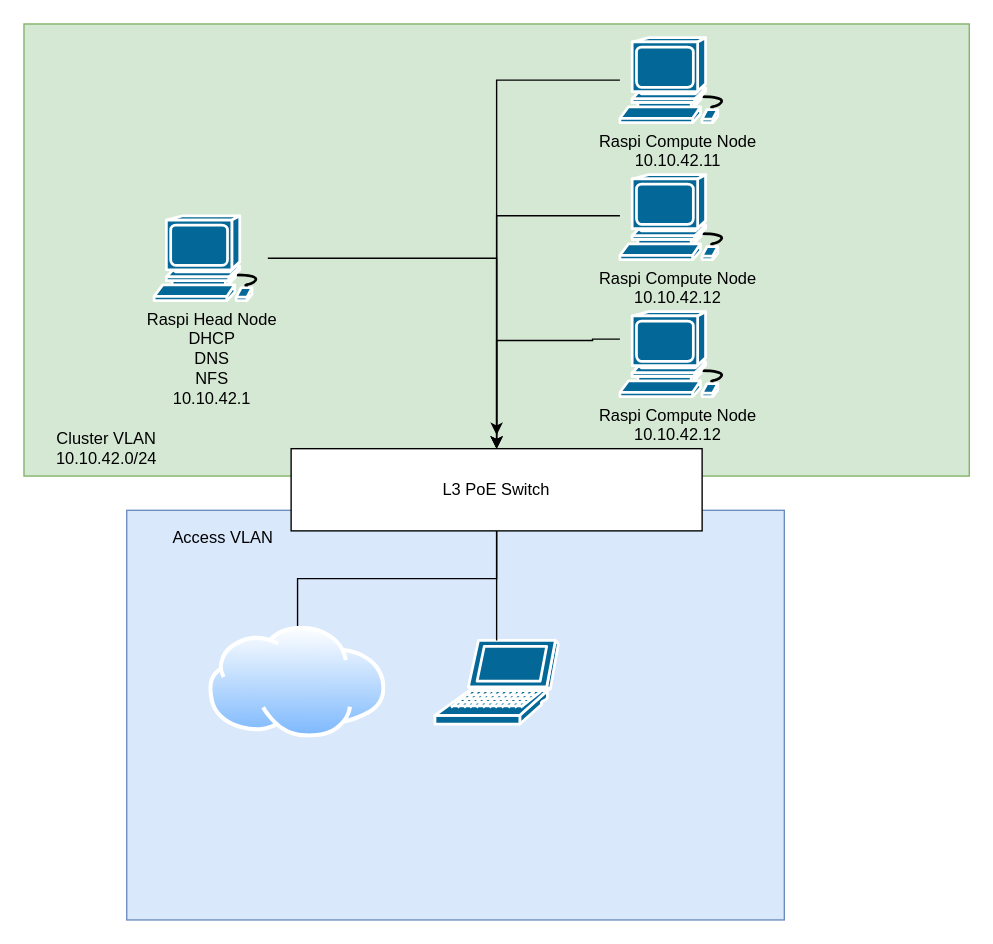
Some shapes in this 993 by 944 pixel diagram are drawn without their labels. Here are the shapes that lost their labels. From the top down, the centre of each, then its label:
the point at 297,681: Internet
the point at 496,681: Ubuntu Laptop 10.10.42.175
